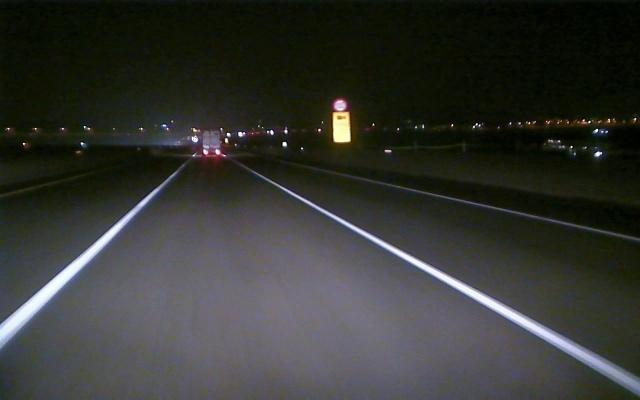lane: (256, 175, 634, 392), (3, 182, 162, 348), (357, 178, 637, 242), (1, 170, 102, 197)
